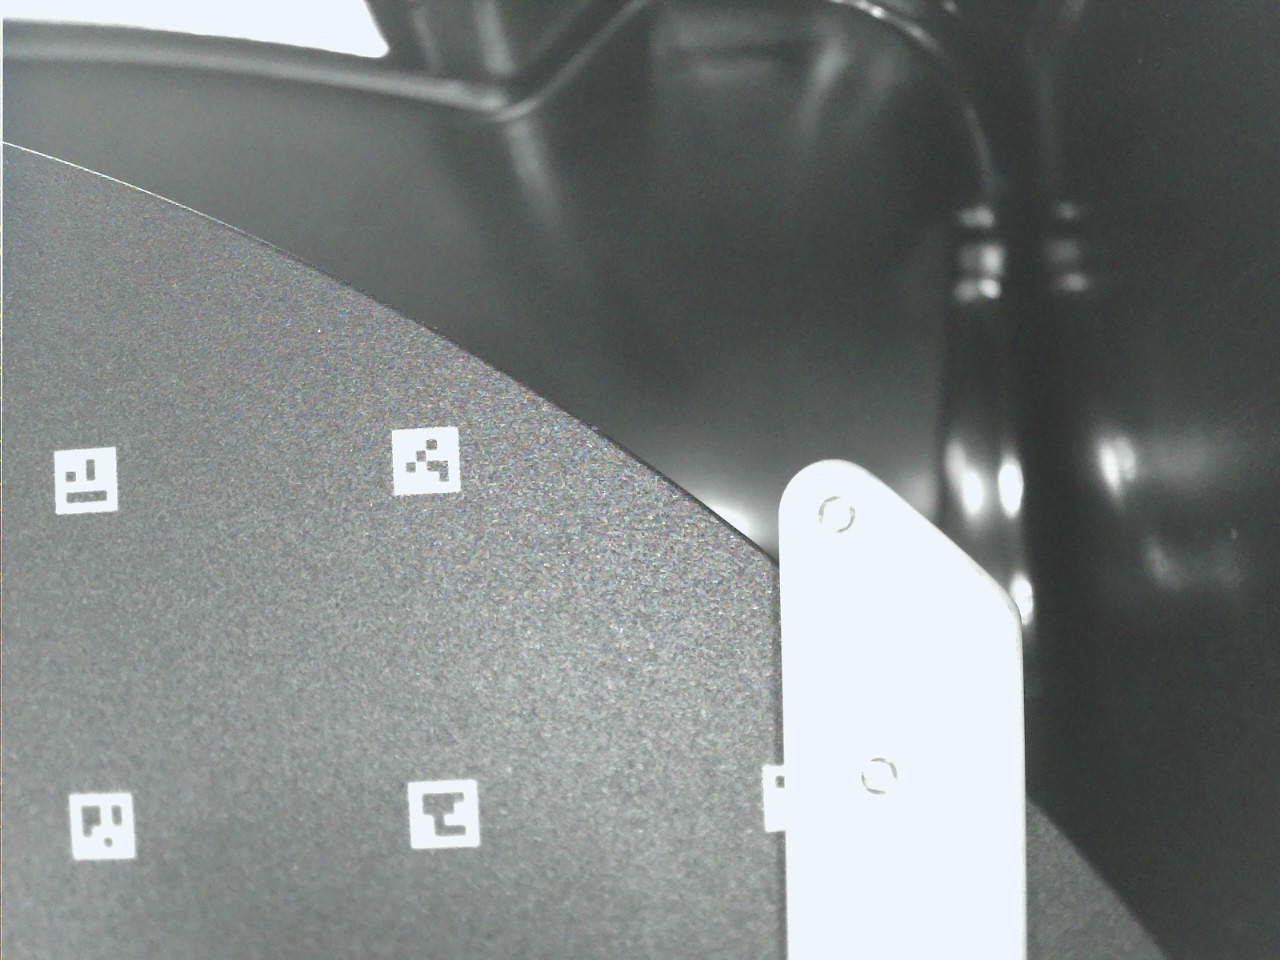forktip: (762, 428, 1042, 960)
